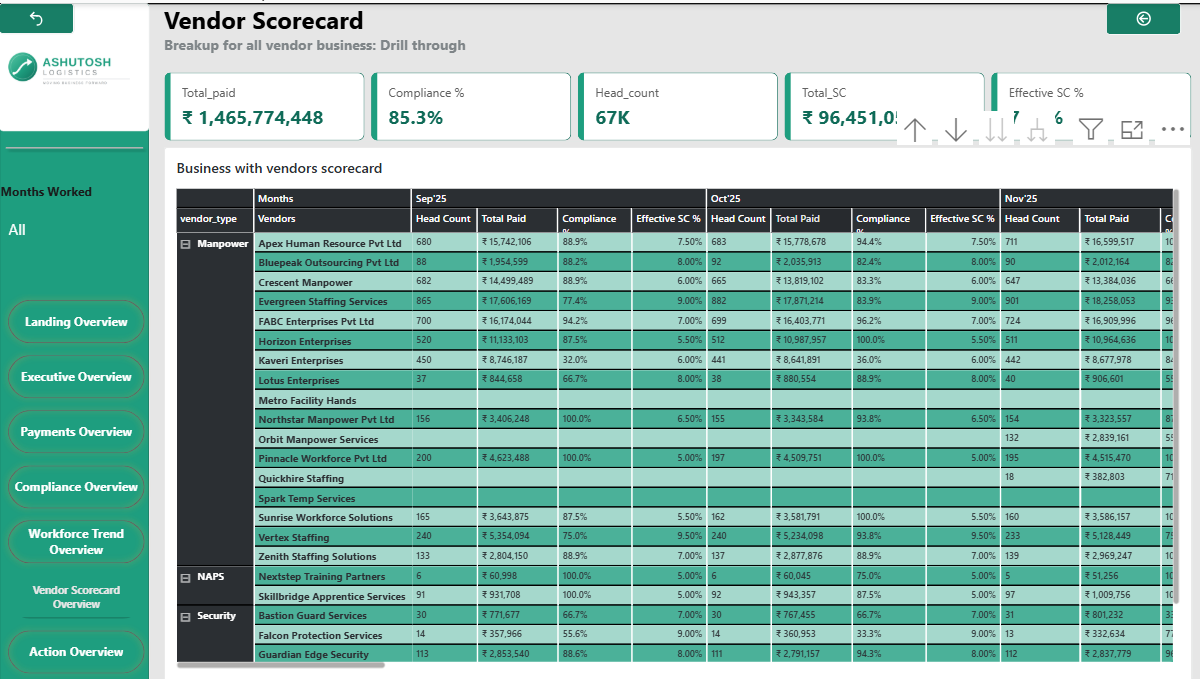

The dashboard page shown, as its layout file describes it:
{"tool":"powerbi","page":{"name":"Vendor Scorecard Overview","canvas":[1600,900],"ordinal":5},"visuals":[{"type":"shape","box":[0,0,200,900],"z":0},{"type":"textbox","box":[217.8,0,470,84],"z":1000},{"type":"slicer","title":"Months Worked","fields":{"Values":["public dim_date.month_name"]},"box":[1.8,238.1,199.6,84],"z":2000},{"type":"image","box":[0,0,199.6,169.8],"z":3000},{"type":"shape","box":[0,183.8,200,15.4],"z":4000},{"type":"cardVisual","fields":{"Data":["Page 1.Total_paid","page 3.Compliance %","Page 1.Head_count","Page 1.Total_SC","Page2.Effective SC %"]},"box":[217.8,90.9,1363.6,92.6],"z":5000},{"type":"pivotTable","title":"Business with vendors scorecard","fields":{"Columns":["public dim_date.month_name"],"Rows":["public dim_vendor.vendor_type","public dim_vendor.vendor_name"],"Values":["Page 1.Head_count","Page 1.Total_paid","page 3.Compliance %","Page2.Effective SC %"]},"box":[217.8,191.7,1363.5,708.6],"z":6000},{"type":"pageNavigator","box":[3.8,385.1,197.2,514.7],"z":7000},{"type":"actionButton","box":[0,0,100,40],"z":8000},{"type":"actionButton","box":[1468.1,0,100,42.6],"z":9000},{"type":"actionButton","box":[0,0,99.7,41.4],"z":10000}]}

Visuals, with their boxes on the page's 1600x900 design canvas (x1, y1, x2, y2). These are canvas units, not pixel positions in the 1200x679 screenshot, which may show the page scaled, cropped or inside an application window:
shape: bbox(0, 0, 200, 900)
textbox: bbox(218, 0, 688, 84)
"Months Worked" slicer: bbox(2, 238, 201, 322)
image: bbox(0, 0, 200, 170)
shape: bbox(0, 184, 200, 199)
cardVisual - Page 1.Total_paid x page 3.Compliance %: bbox(218, 91, 1581, 184)
"Business with vendors scorecard" pivotTable: bbox(218, 192, 1581, 900)
pageNavigator: bbox(4, 385, 201, 900)
actionButton: bbox(0, 0, 100, 40)
actionButton: bbox(1468, 0, 1568, 43)
actionButton: bbox(0, 0, 100, 41)
